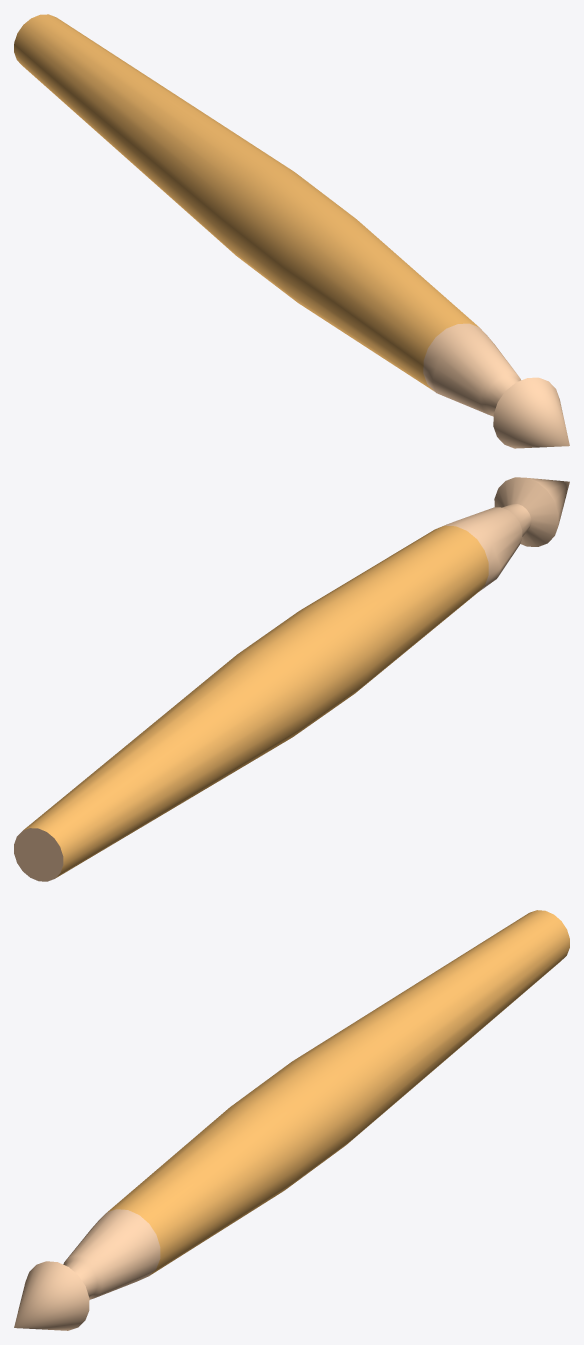
File: KM_carreau.FBX
The picture shows the model from 3 angles, top to bottom: view 1: azimuth 30°, elevation 25°; view 2: azimuth 150°, elevation 25°; view 3: azimuth 330°, elevation 25°; orthographic projection. The views are drawn at different scales.
Visible parts, largest first — view 1: Arbalete_carreau; view 2: Arbalete_carreau; view 3: Arbalete_carreau.
Part boxes in pixels (bbox=[...]): Arbalete_carreau: bbox=[14, 14, 569, 448]; Arbalete_carreau: bbox=[14, 477, 569, 881]; Arbalete_carreau: bbox=[14, 910, 569, 1330].
Size of the model in its own units: 0.00993 by 0.0101 by 0.1047.
